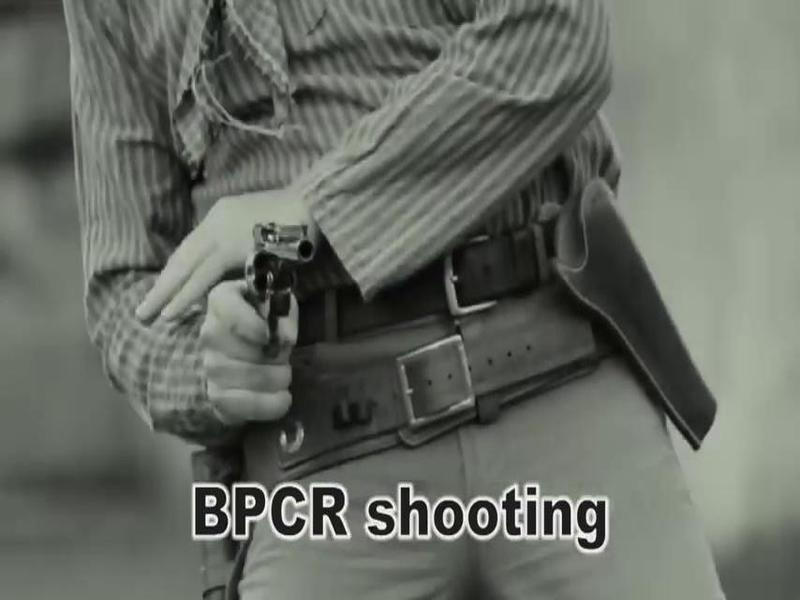Revolver: (238, 221, 314, 361)
